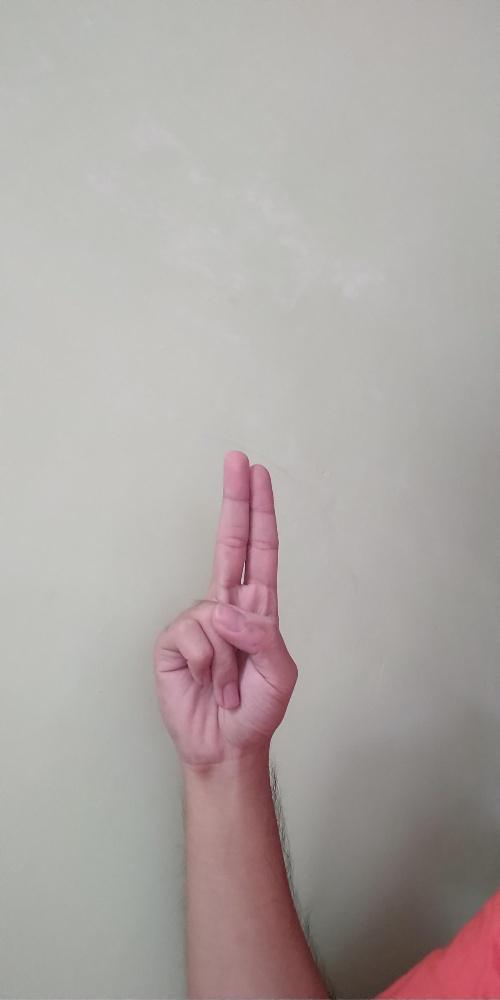u: (151, 446, 299, 764)
